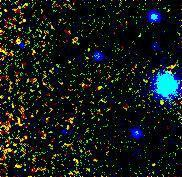star: (147, 87, 177, 117)
